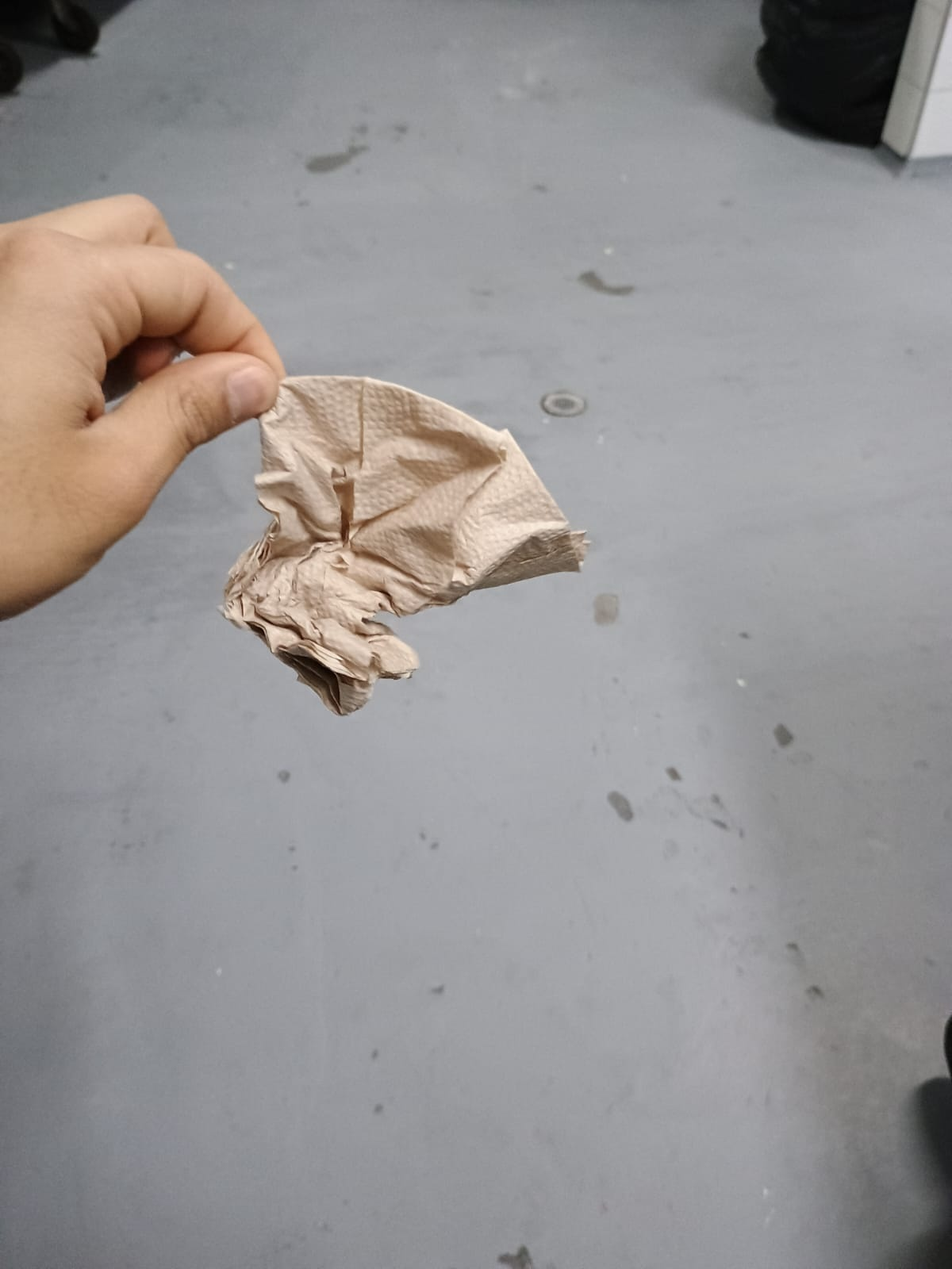Ordinario: (221, 377, 584, 719)
